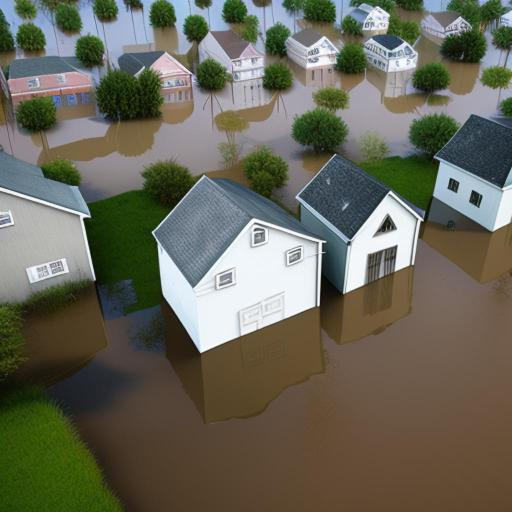flood: (14, 199, 512, 512), (0, 30, 502, 212), (0, 0, 208, 71), (244, 0, 379, 48), (210, 0, 234, 30), (395, 8, 428, 23), (426, 0, 448, 11)
house: (151, 159, 327, 355), (297, 143, 435, 297), (0, 148, 98, 324), (429, 110, 512, 239), (3, 57, 93, 113), (200, 26, 264, 89), (146, 50, 194, 108), (287, 29, 343, 75), (364, 34, 418, 74), (421, 10, 471, 48), (344, 0, 390, 40)
